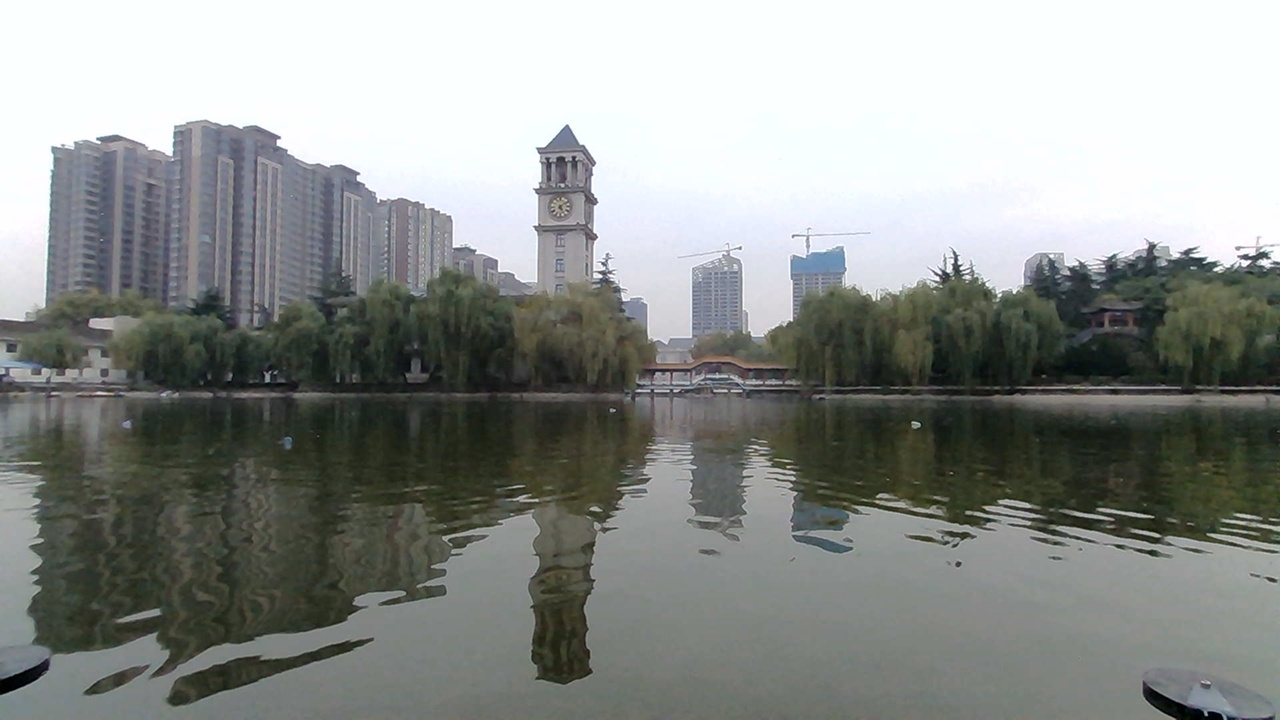bottle: (900, 413, 938, 434), (274, 432, 308, 454), (118, 408, 139, 436)
